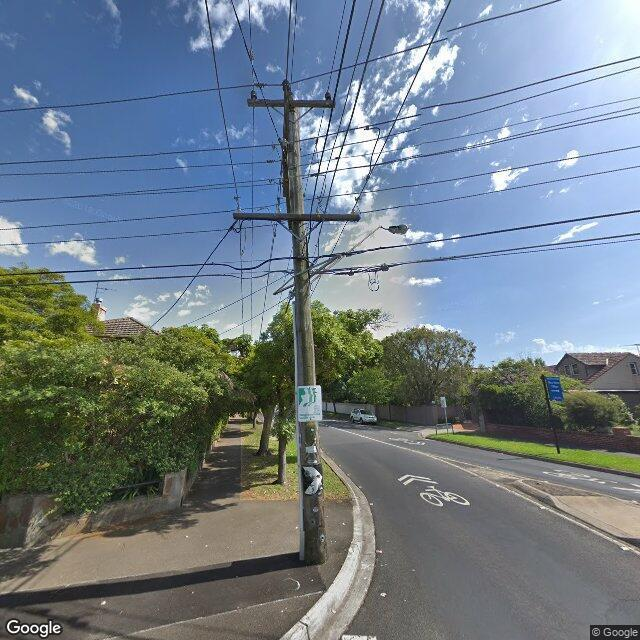HV-transmission: (249, 78, 331, 102)
crossarm: (233, 212, 361, 222), (247, 99, 335, 109), (281, 140, 288, 197)
streetlight: (310, 225, 409, 286)
timber-pole: (284, 94, 326, 566)
